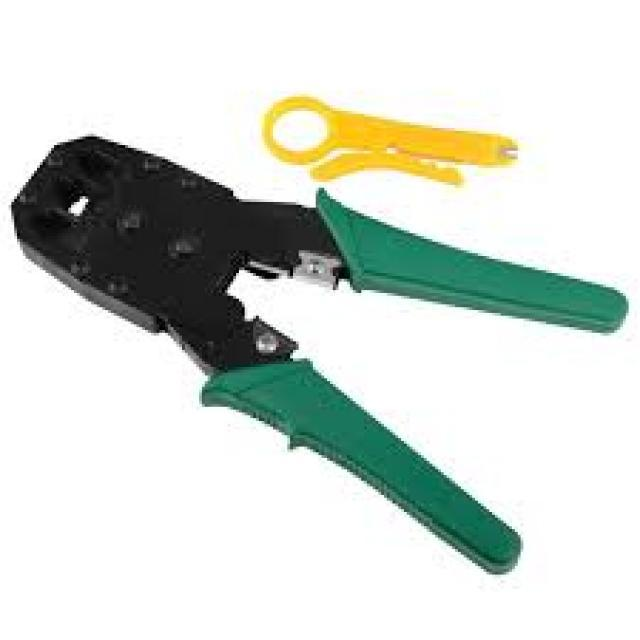pliers: (4, 130, 635, 578)
